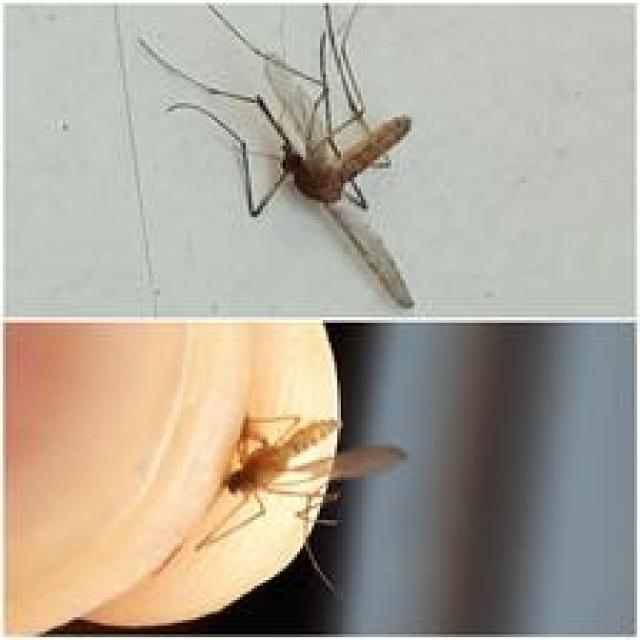Culex: (137, 0, 417, 309)
